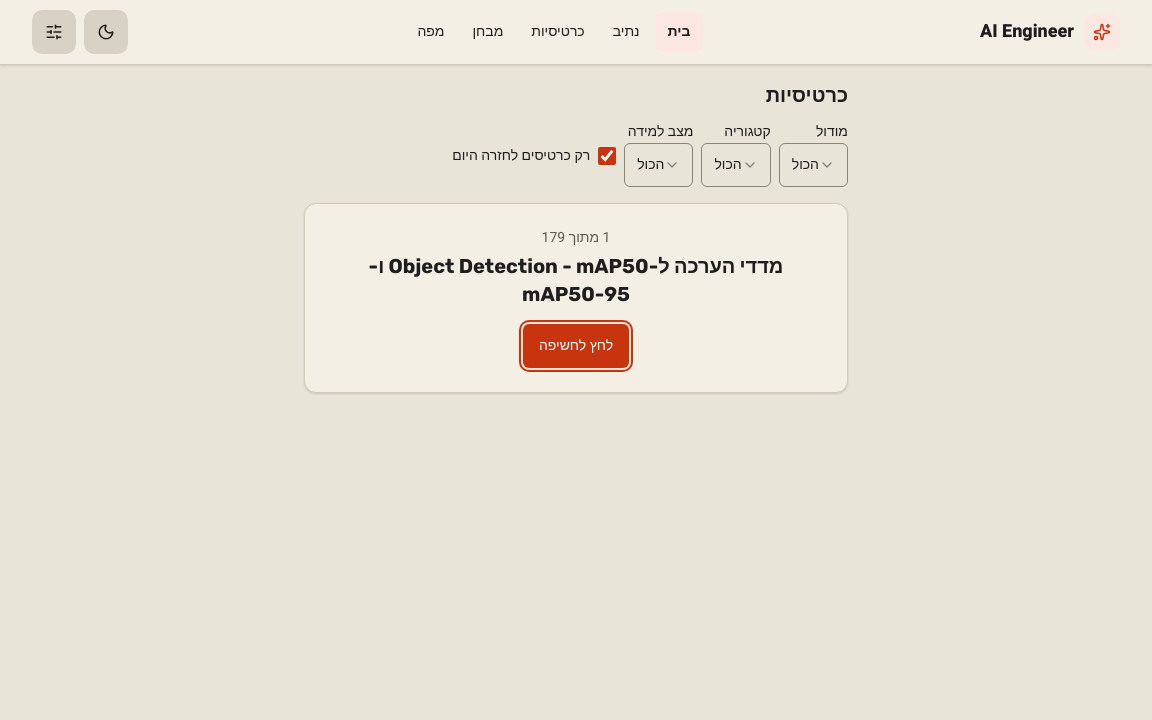
Test: Flashcards › shows an end-of-session message after rating the only matching card
This screenshot has width=1152, height=720.
Click the dropdown named "מצב למידה" at [659, 165], box [624, 143, 694, 187]
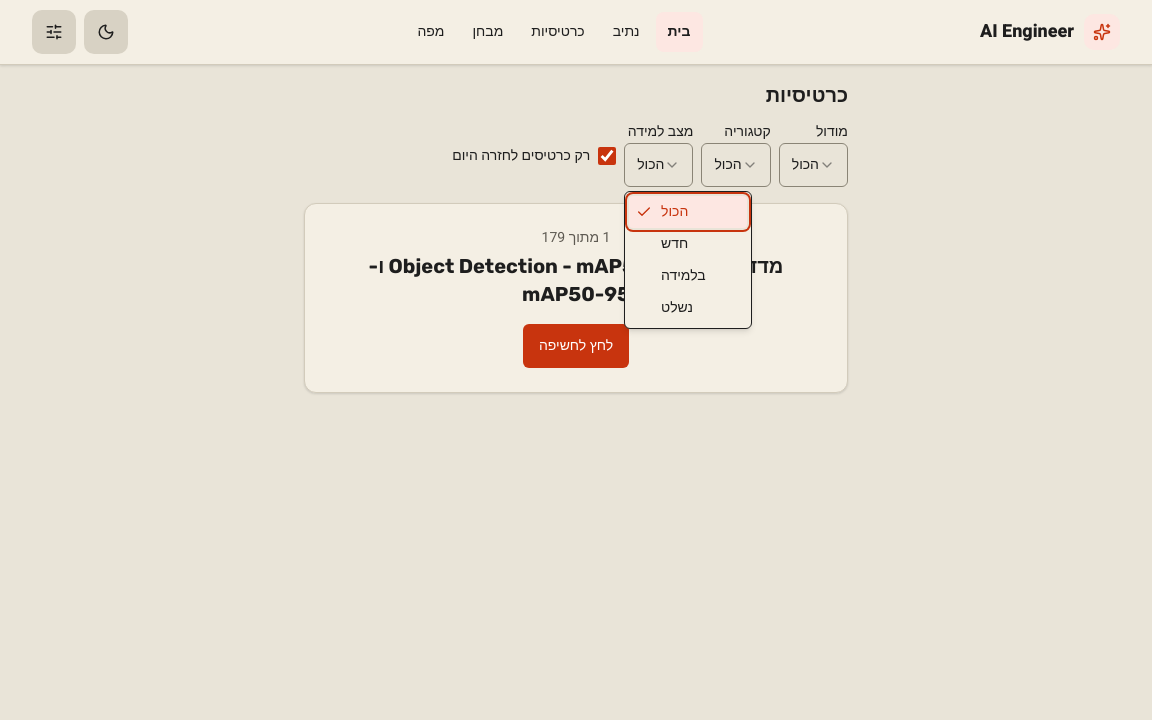
Click the option "חדש" at [675, 244], box [661, 233, 688, 254]
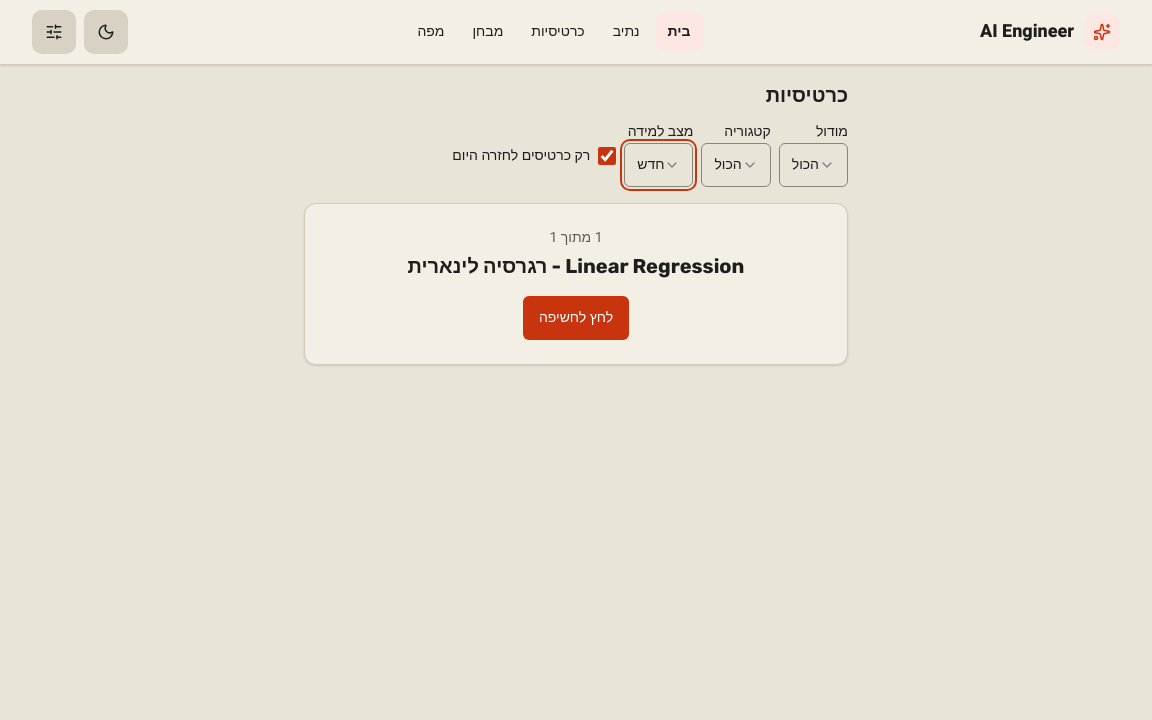
Expected: the text "1 מתוך 1" is shown, [549, 227, 602, 248]
Click the button "לחץ לחשיפה" at [576, 318], box [523, 296, 629, 340]
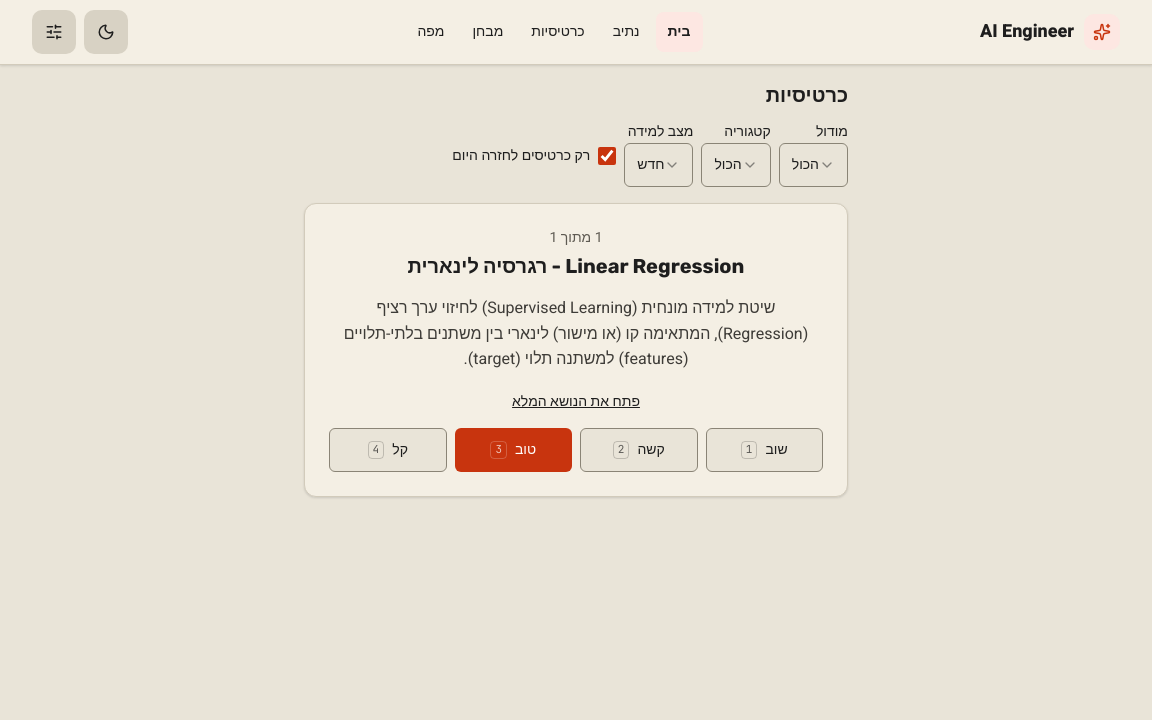
Click the button "טוב 3" at [513, 450], box [454, 428, 572, 472]
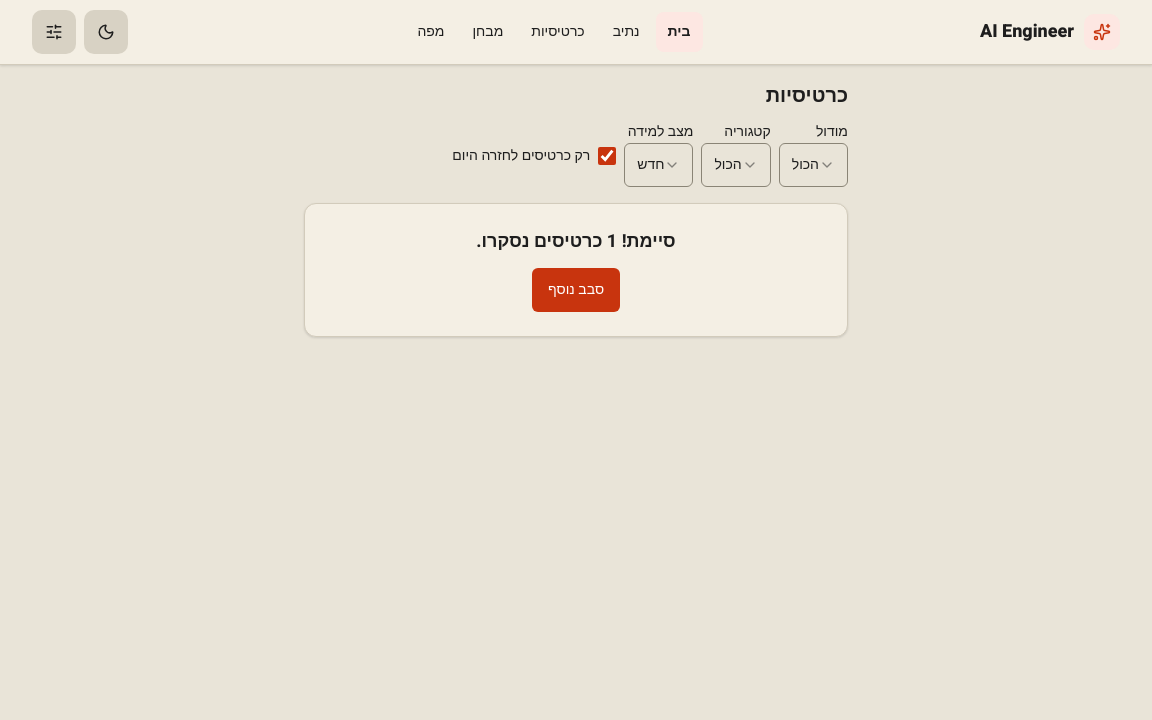
Expected: the message shows "סיימת! 1 כרטיסים נסקרו.", [476, 228, 676, 255]
